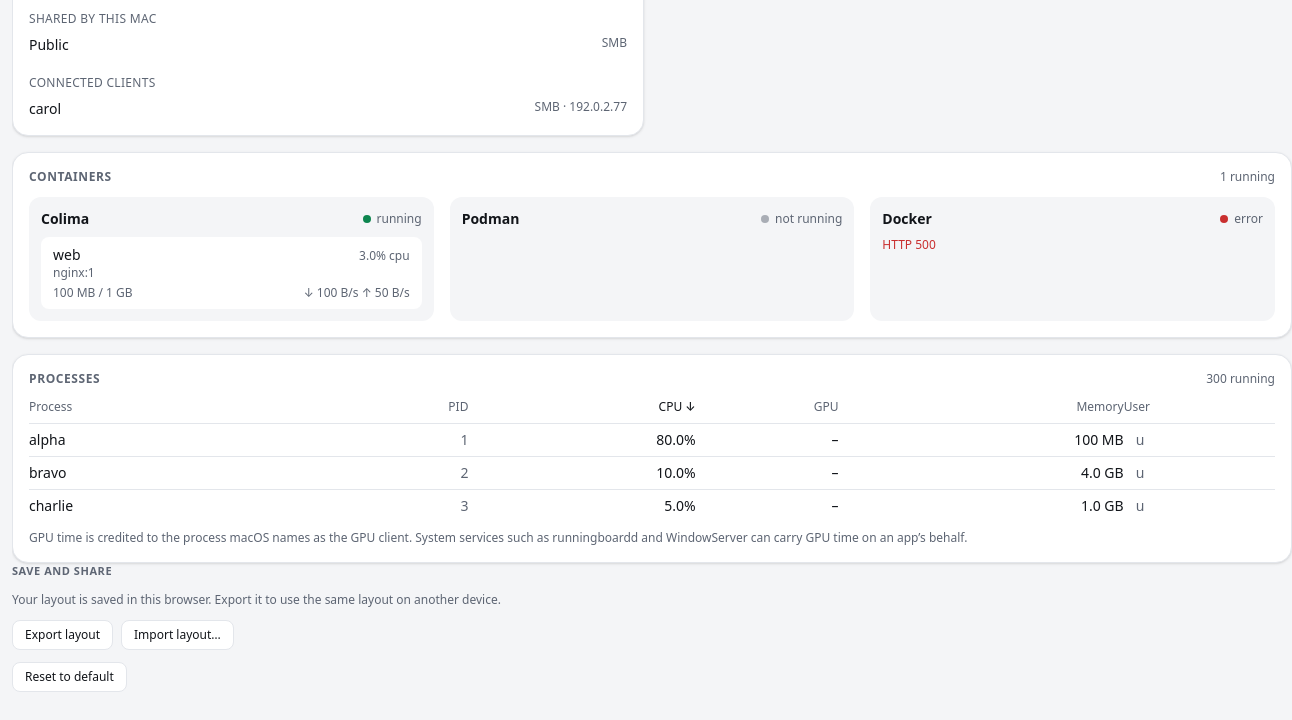
it: reset › cancel keeps the layout
(page scrolled)
Click the button "Reset to default": (69, 676) [12, 662, 127, 692]
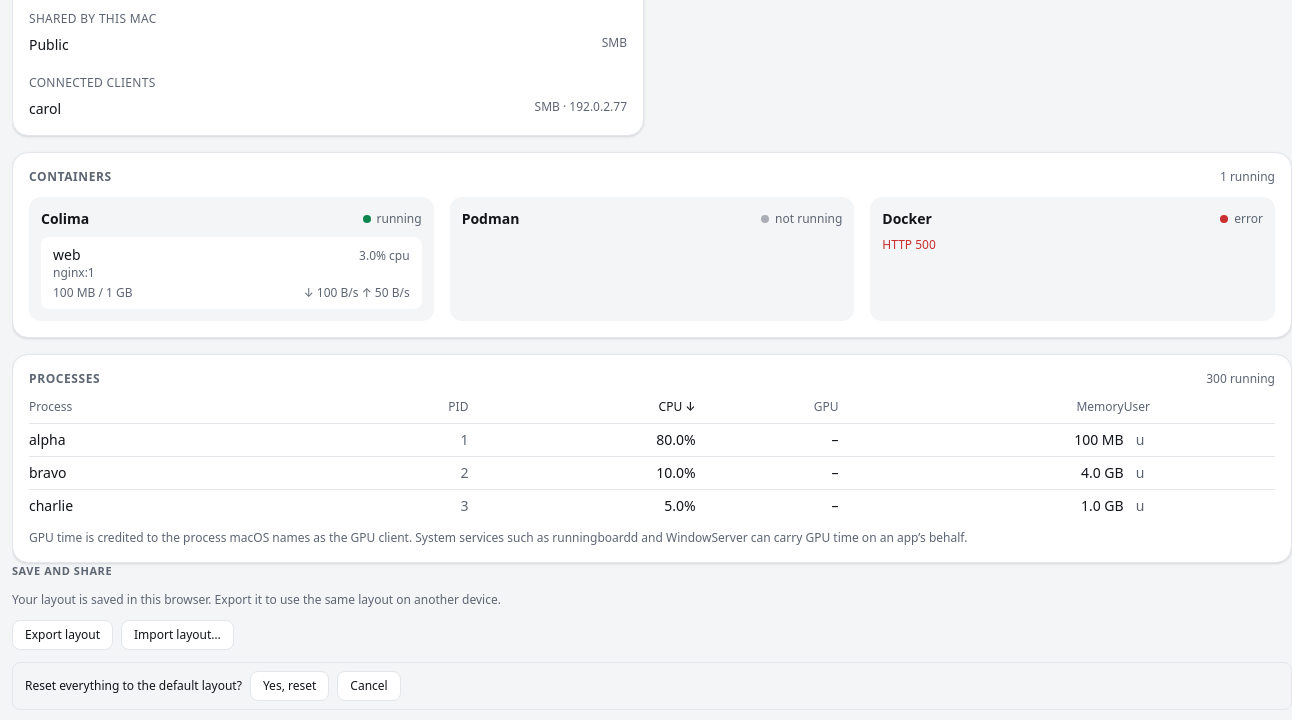
Click the button "Cancel": (369, 686) [337, 670, 401, 700]
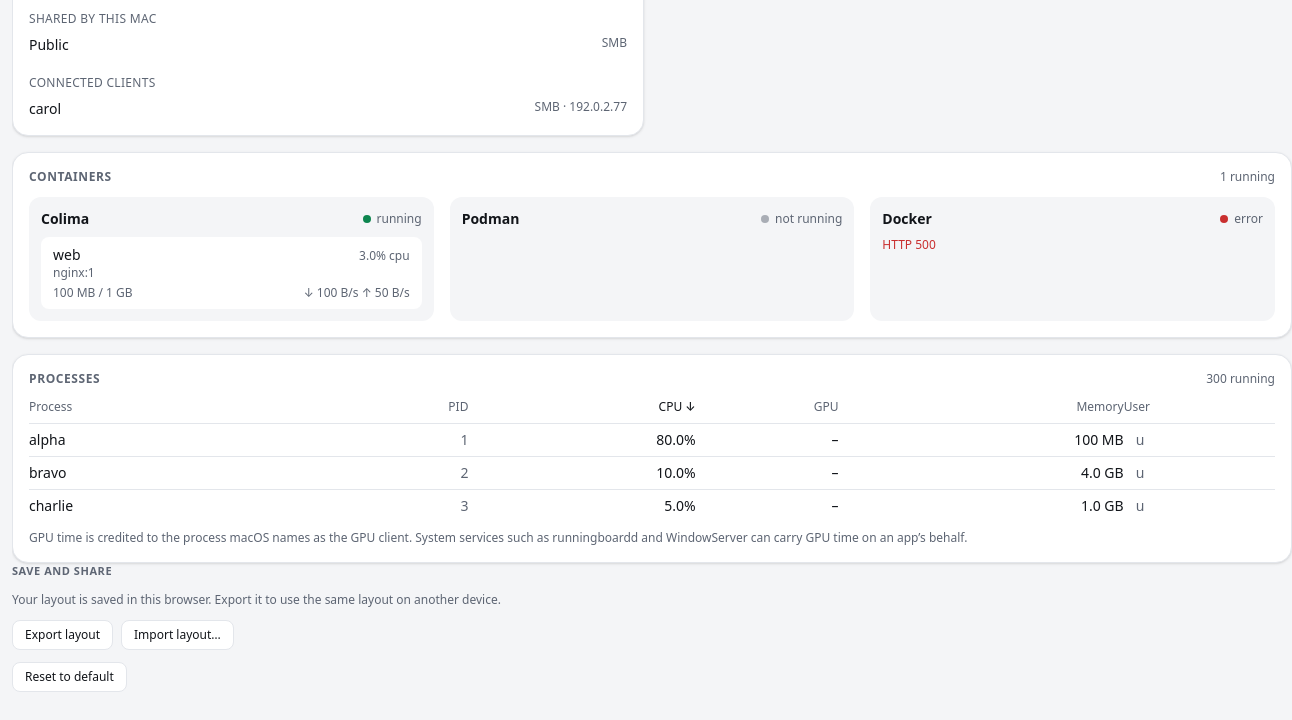
Now the button "Reset to default" is shown, box [12, 662, 127, 692]
